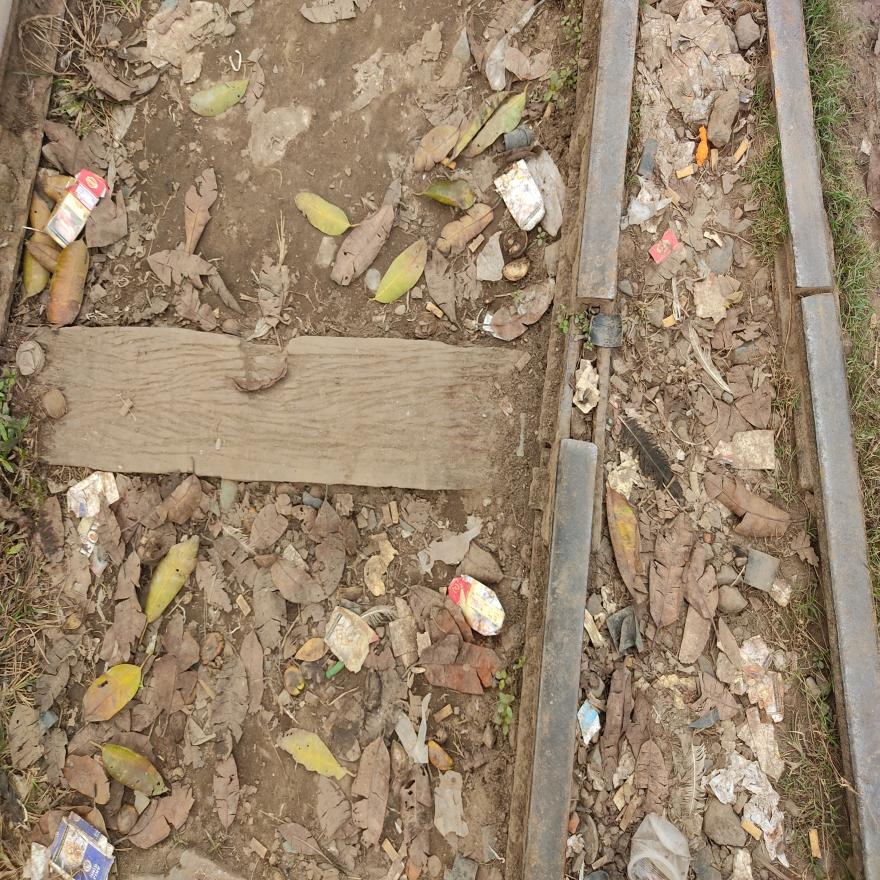railway-gap: (534, 258, 636, 507), (778, 244, 848, 344)
